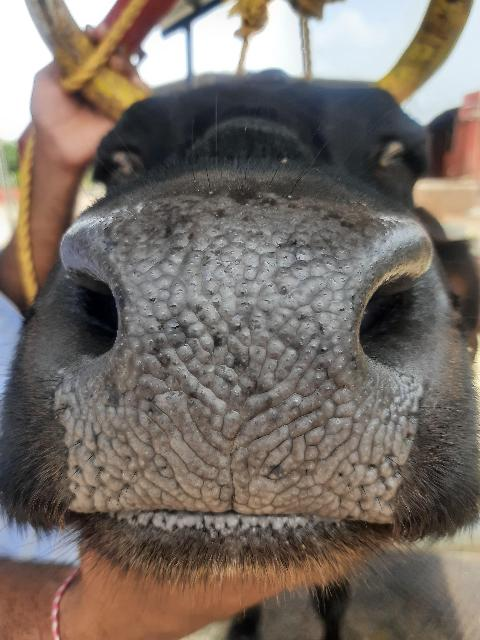Muzzle: (112, 217, 350, 518)
